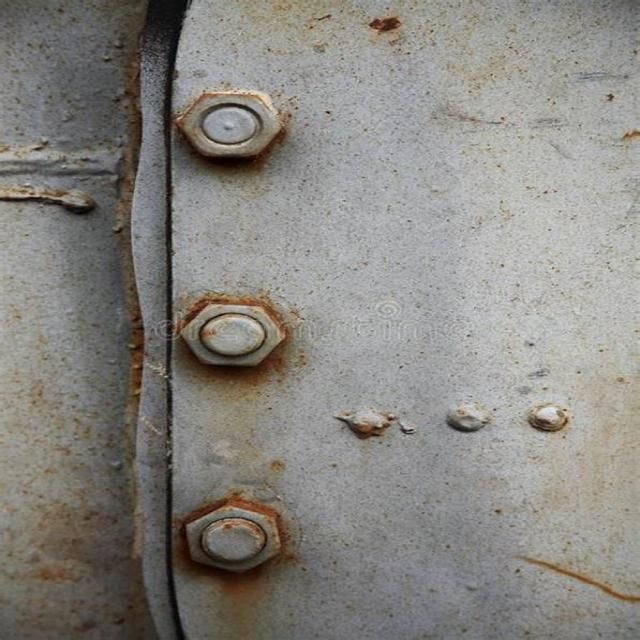bolt nut: (168, 89, 285, 161), (180, 498, 286, 576), (175, 301, 286, 372)
